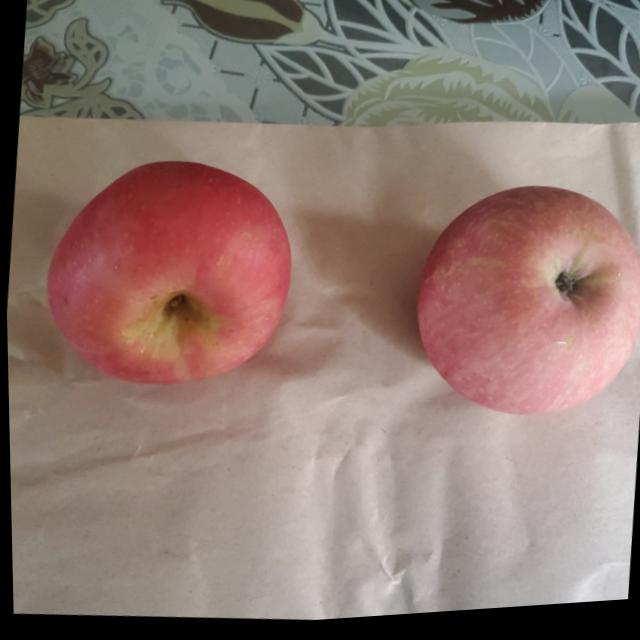apple: (31, 147, 302, 406), (407, 175, 640, 432)
